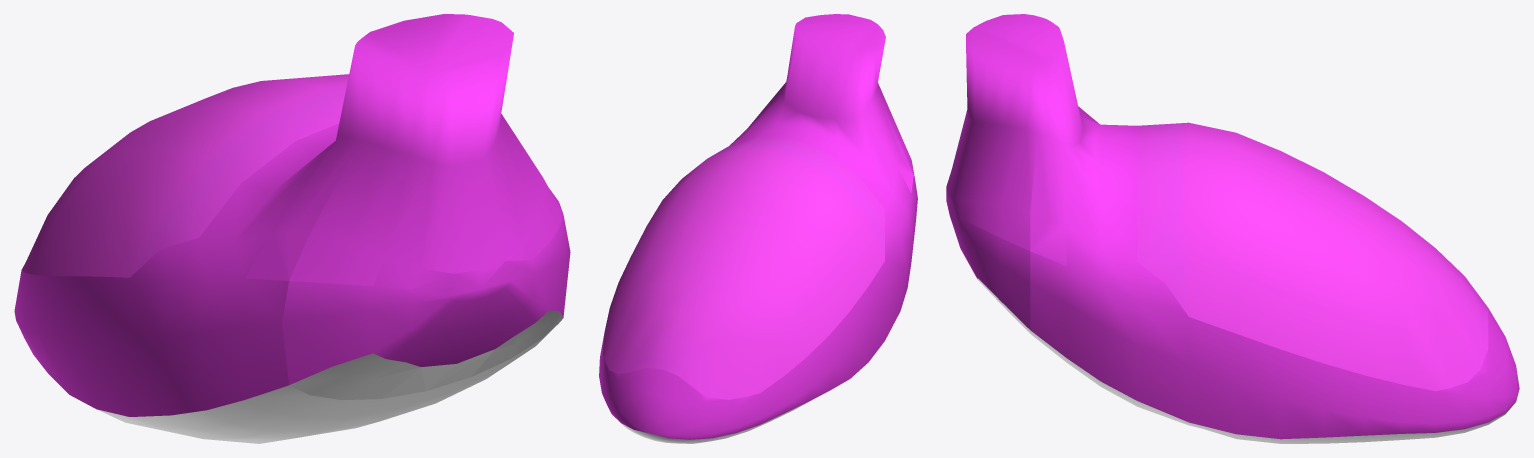
The model's file is princess_body.obj.
The picture shows the model from 3 angles, left to right: view 1: azimuth 30°, elevation 25°; view 2: azimuth 150°, elevation 25°; view 3: azimuth 270°, elevation 25°; orthographic projection. The views are drawn at different scales.
Visible parts, largest first — view 1: polySurface25, textureEditorIsolateSelectSet polySurface25; view 2: textureEditorIsolateSelectSet polySurface25, polySurface25; view 3: polySurface25, textureEditorIsolateSelectSet polySurface25.
Boxes of the visible parts, x1=… form: polySurface25: x1=14, y1=14, x2=570, y2=443; textureEditorIsolateSelectSet polySurface25: x1=21, y1=74, x2=349, y2=277; textureEditorIsolateSelectSet polySurface25: x1=603, y1=137, x2=884, y2=399; polySurface25: x1=599, y1=14, x2=917, y2=443; polySurface25: x1=946, y1=14, x2=1519, y2=443; textureEditorIsolateSelectSet polySurface25: x1=1137, y1=122, x2=1488, y2=391.
Bounding box in the file's own units: 2 × 2.32 × 3.21.
Materials: 1 (1 with a texture image).
